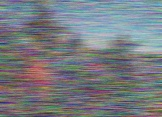Vehicle: (0, 34, 71, 116), (110, 38, 142, 89), (58, 45, 92, 84)
